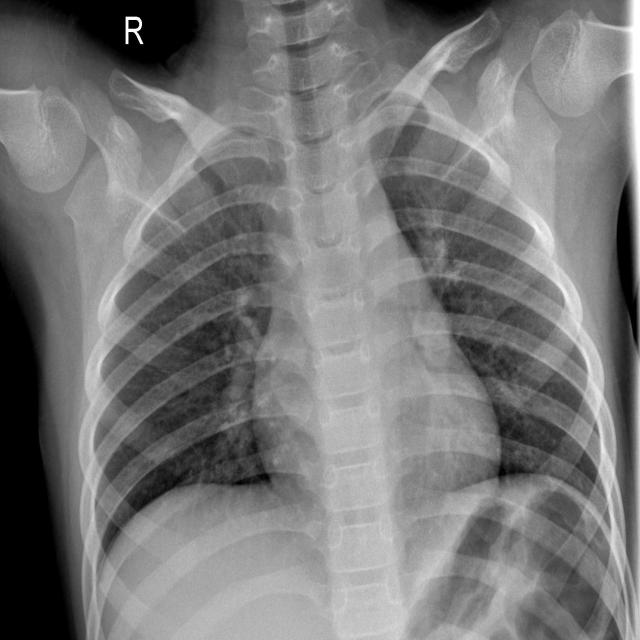no-pneumonia: (373, 106, 620, 508), (84, 131, 279, 548)
